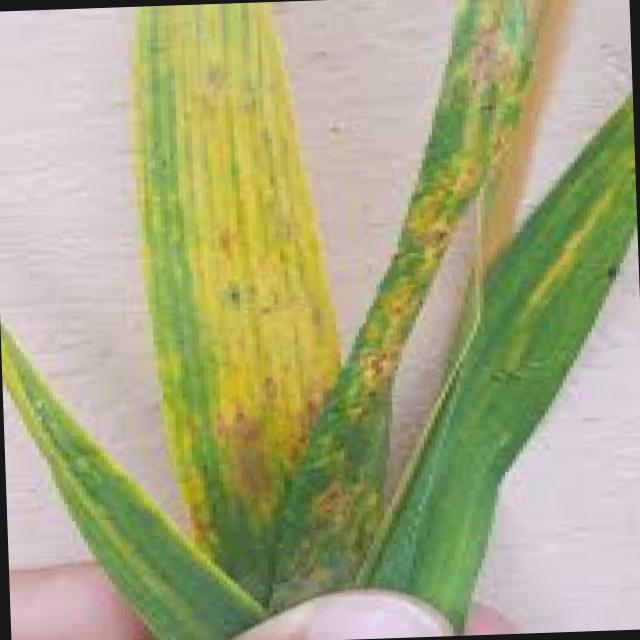leaf_blight: (134, 2, 337, 597)
